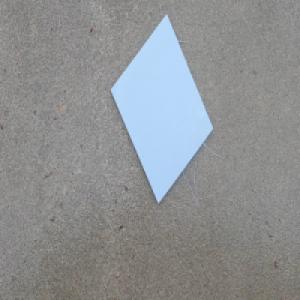PaintChip: (111, 13, 214, 202)
